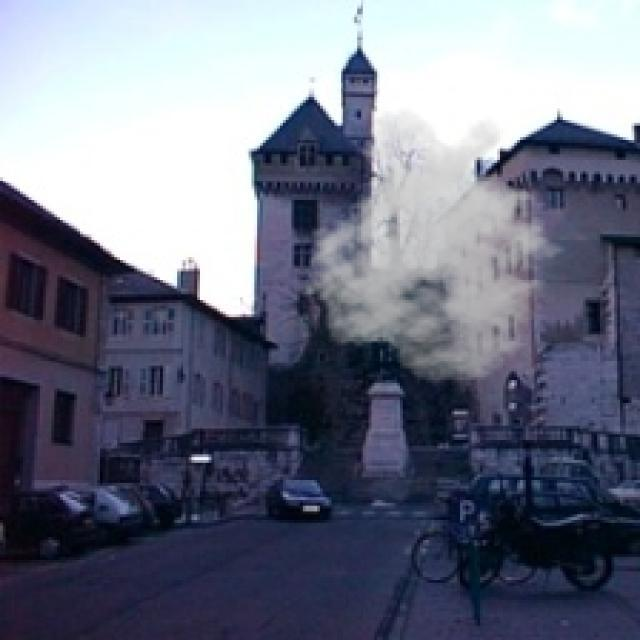Smoke: (300, 108, 580, 386)
